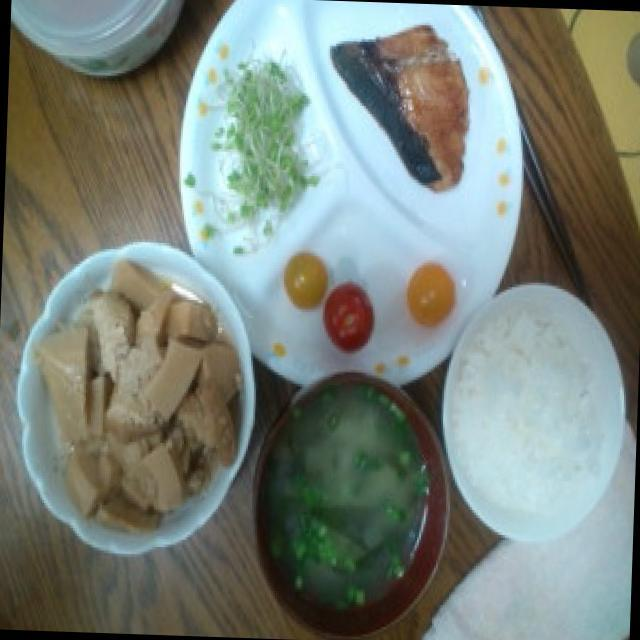Rice: (446, 309, 610, 525)
